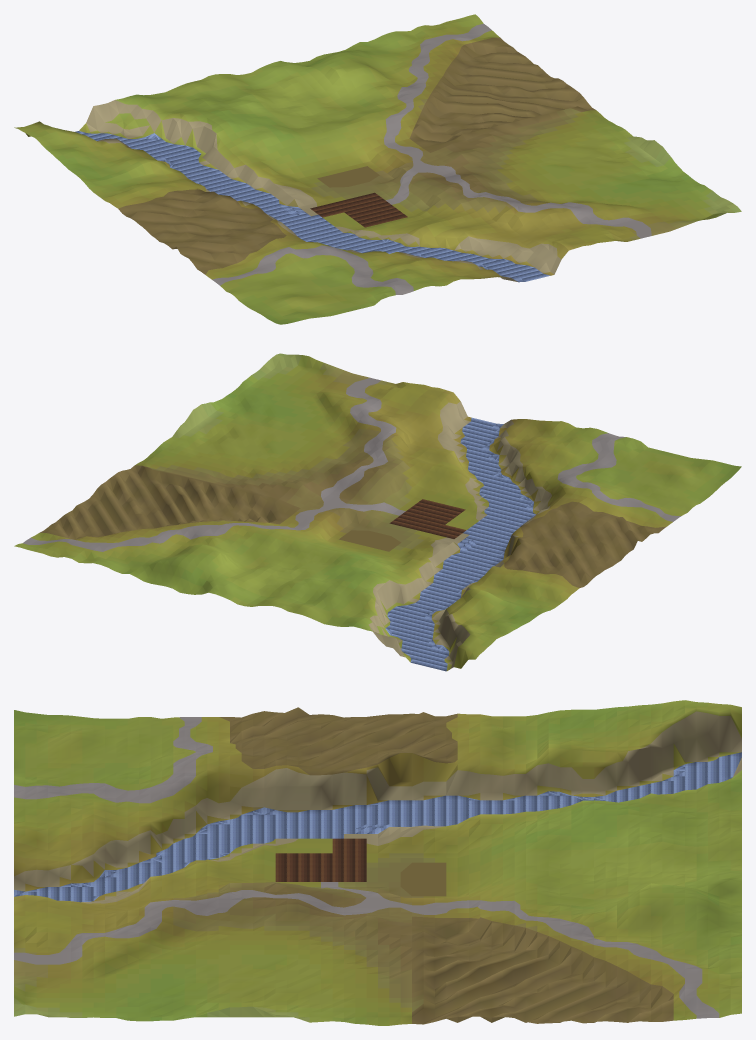
3 views of the same model, one above another, from view 1: azimuth 30°, elevation 25°; view 2: azimuth 150°, elevation 25°; view 3: azimuth 270°, elevation 25° (orthographic). The views are drawn at different scales.
Parts seen in each view (by area): view 1: model; view 2: model; view 3: model.
Part boxes in pixels (x1,y1,x2,y2): model: (14,14,741,324); model: (14,353,741,671); model: (14,700,741,1025).
Bounding box in the file's own units: 64 × 4.06 × 64.
3 materials, 2 textured.
